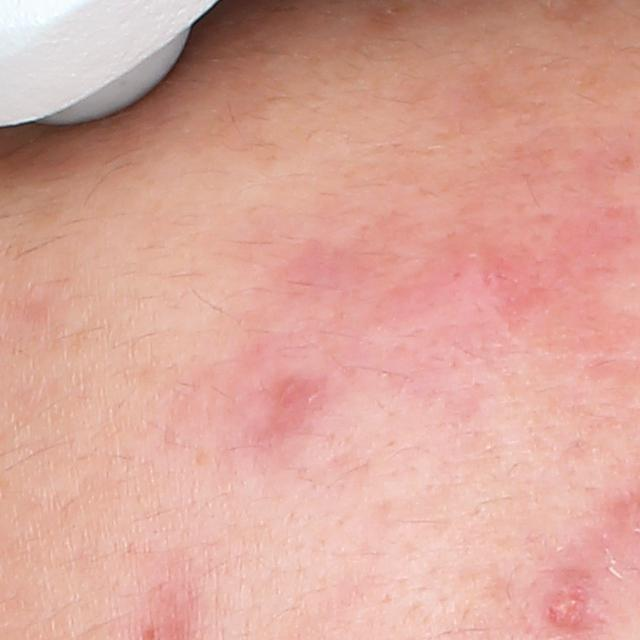papule: (545, 585, 593, 628)
